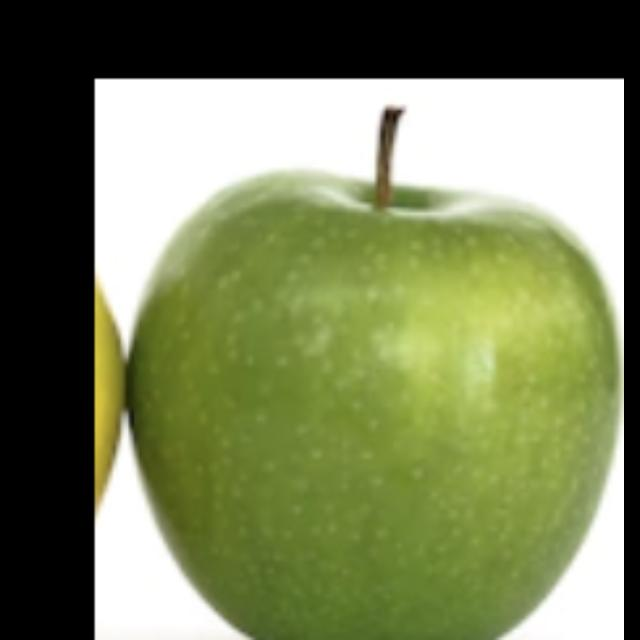Apel Segar: (124, 170, 622, 640)
